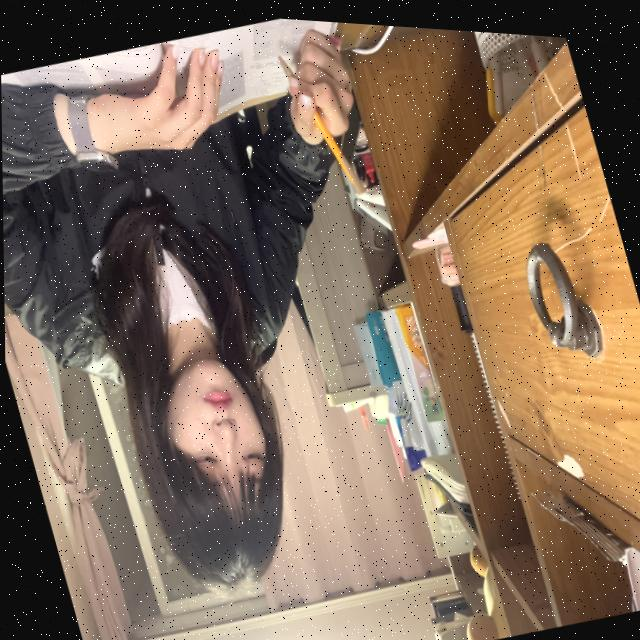studying-person: (0, 0, 496, 640)
